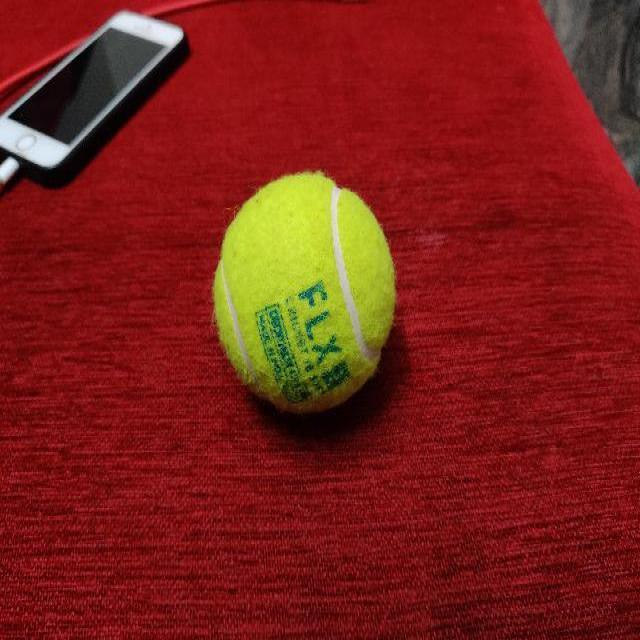tennis-ball: (212, 168, 396, 414)
